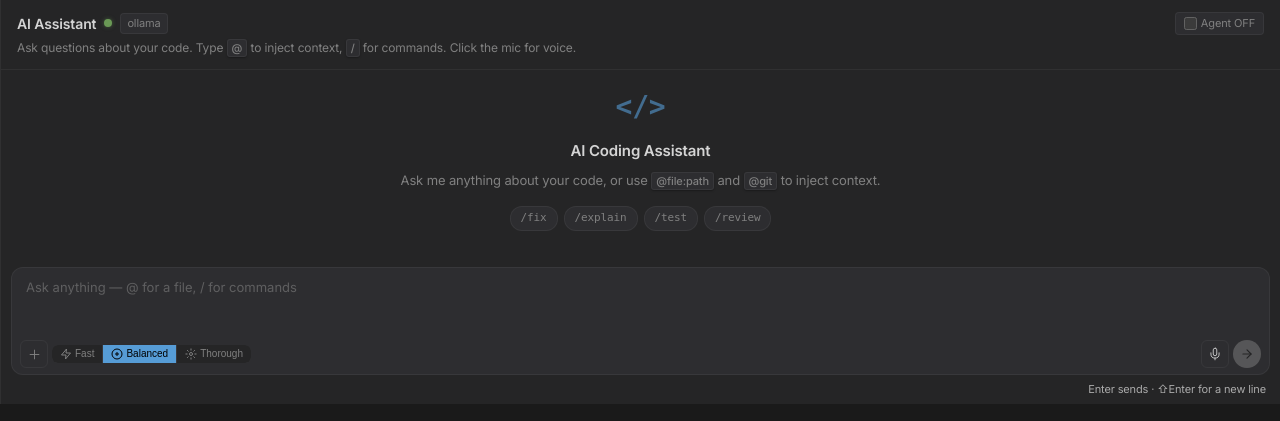
Test: AIChat › typing / opens slash command menu
In the text box with placeholder "Ask anything — @ for a file, / for commands": [640, 302] box left=12, top=268, right=1269, bottom=336, type "/"
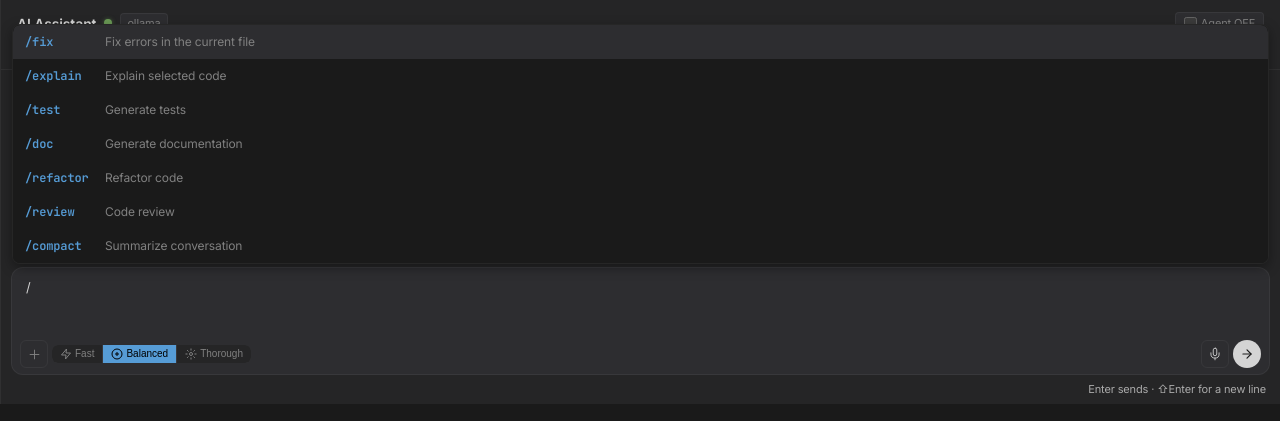
Expected: the text "Fix errors in the current file" is shown, left=105, top=32, right=255, bottom=50
Expected: the text "Explain selected code" is shown, left=105, top=66, right=226, bottom=84
